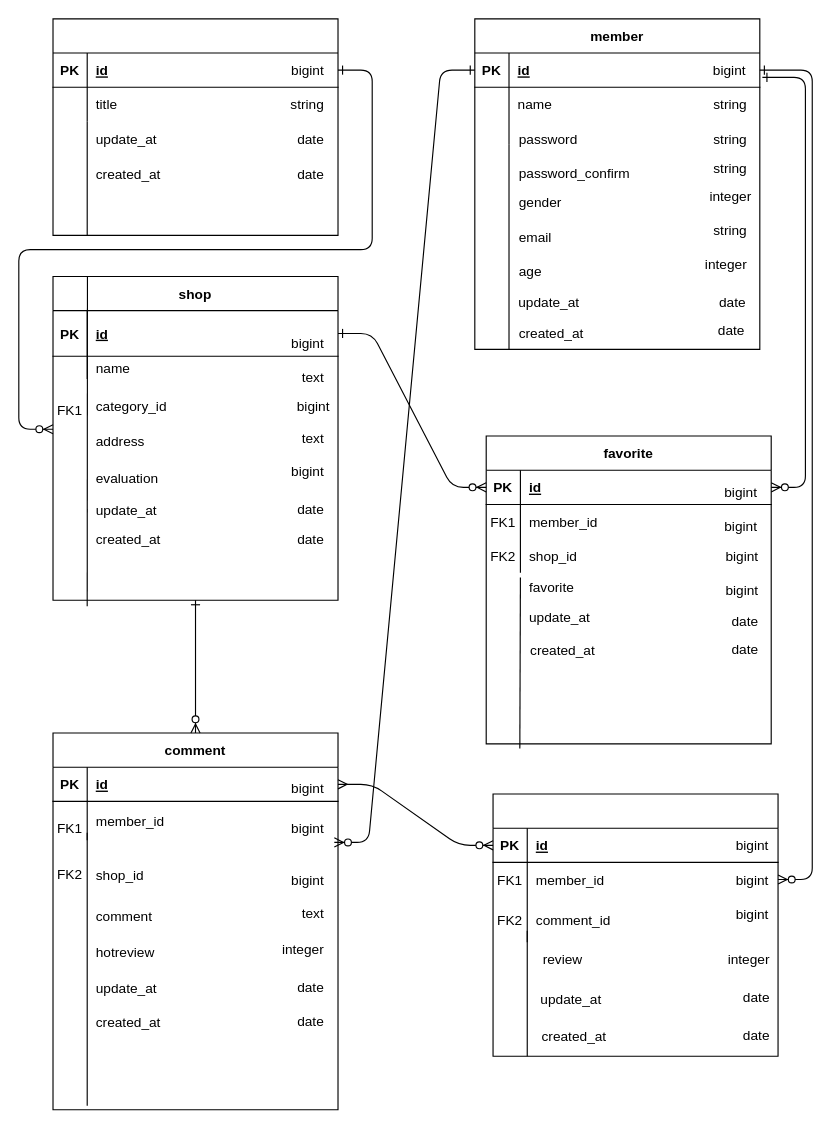
This 831x1129 diagram has some shape labels left out. The shapes that lost their labels are listed below. From the top down, each one's box as (x1, y1, x2, y2) in pixels, then its label:
(52, 18, 338, 235): category
(492, 793, 778, 1056): hot_review
